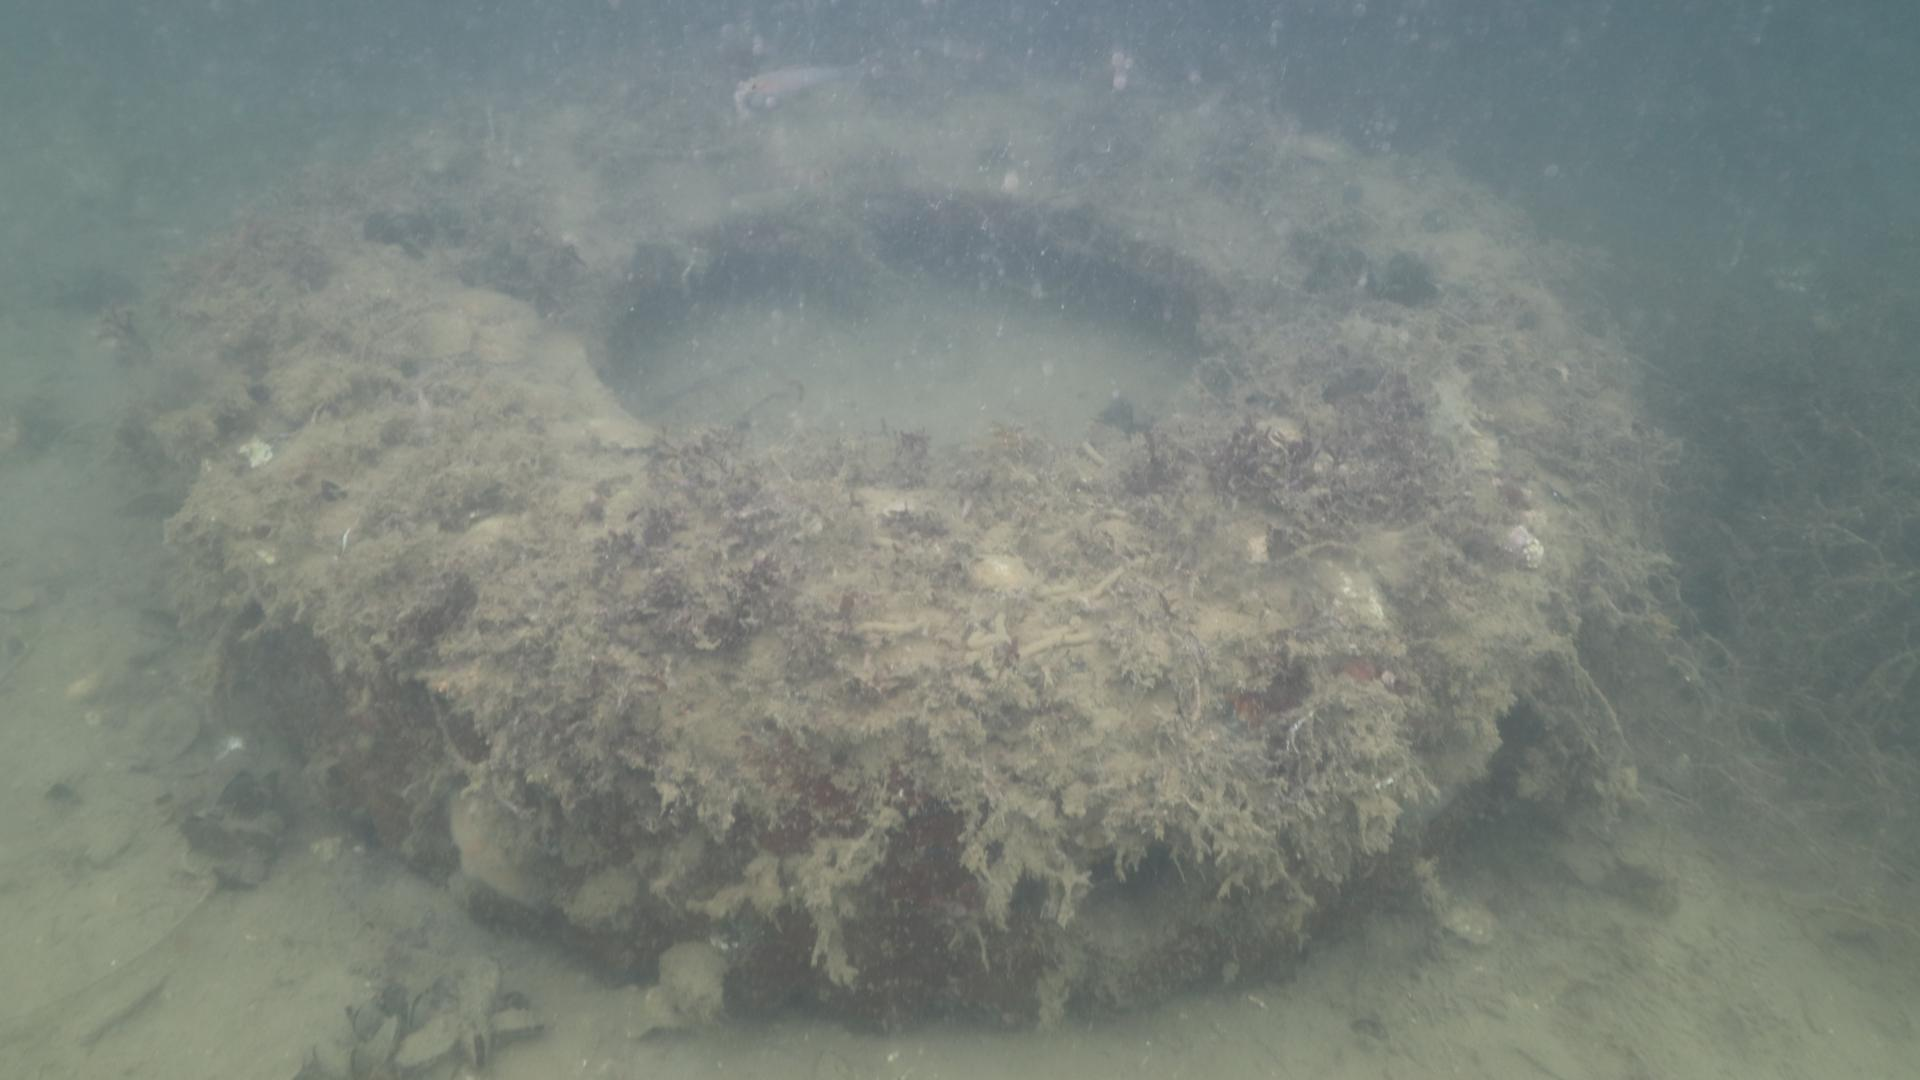tire: (245, 55, 1588, 1034)
